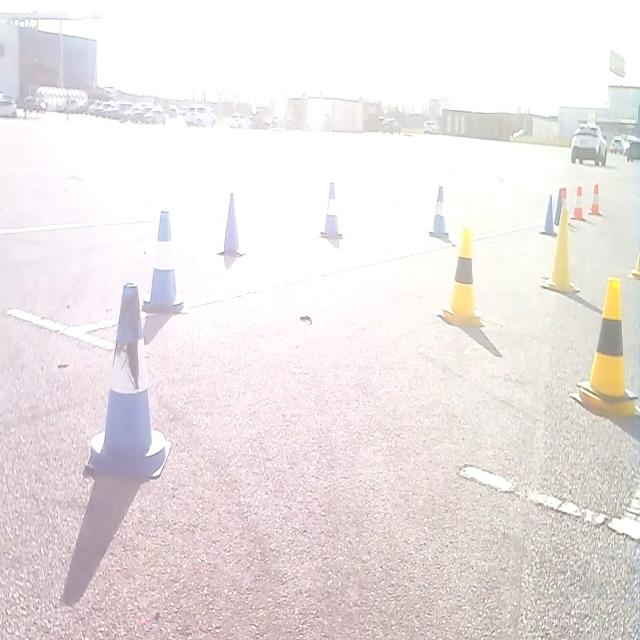blue_cone: (82, 280, 172, 482), (142, 208, 184, 314), (217, 190, 245, 259), (319, 180, 343, 246), (539, 193, 557, 236), (554, 185, 568, 225)
orange_cone: (571, 184, 585, 222), (588, 182, 602, 216)
yellow_cone: (575, 273, 637, 418), (441, 226, 484, 328), (540, 204, 580, 295), (428, 184, 449, 239), (629, 249, 639, 279)
